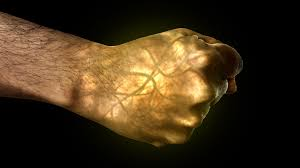fist: (108, 28, 219, 153)
